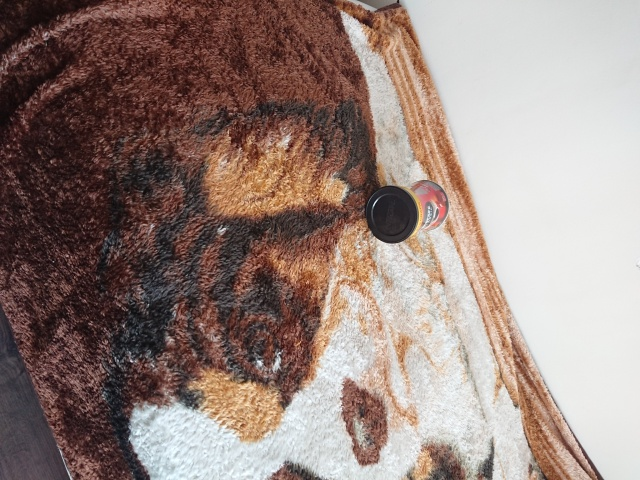Nescafe Classic 225g: (363, 178, 452, 246)
